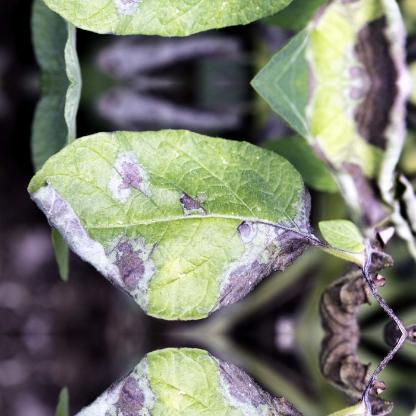Late-Blight: (19, 117, 318, 313), (18, 353, 317, 416), (18, 0, 317, 47)
